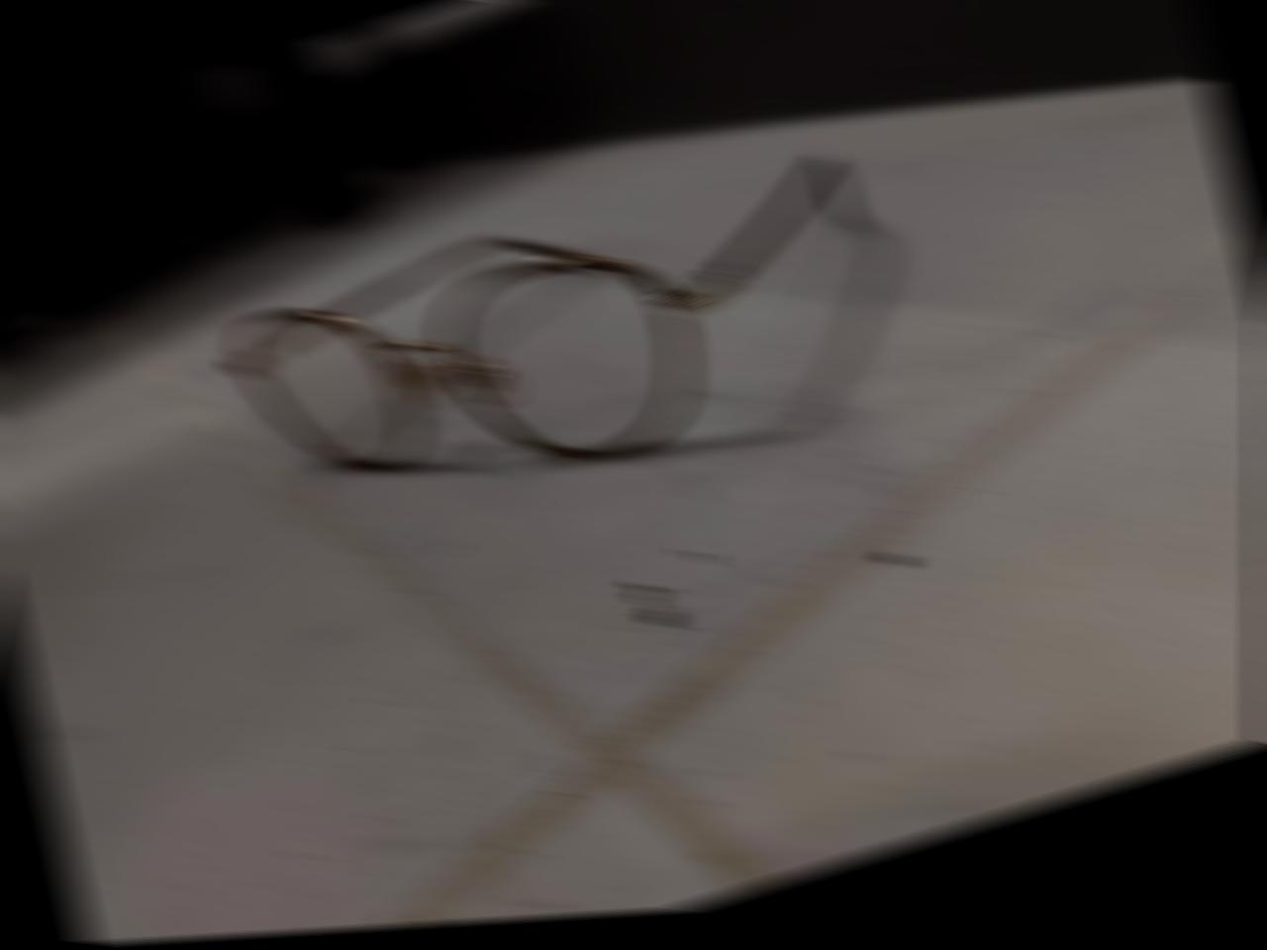glasses: (193, 107, 914, 564)
